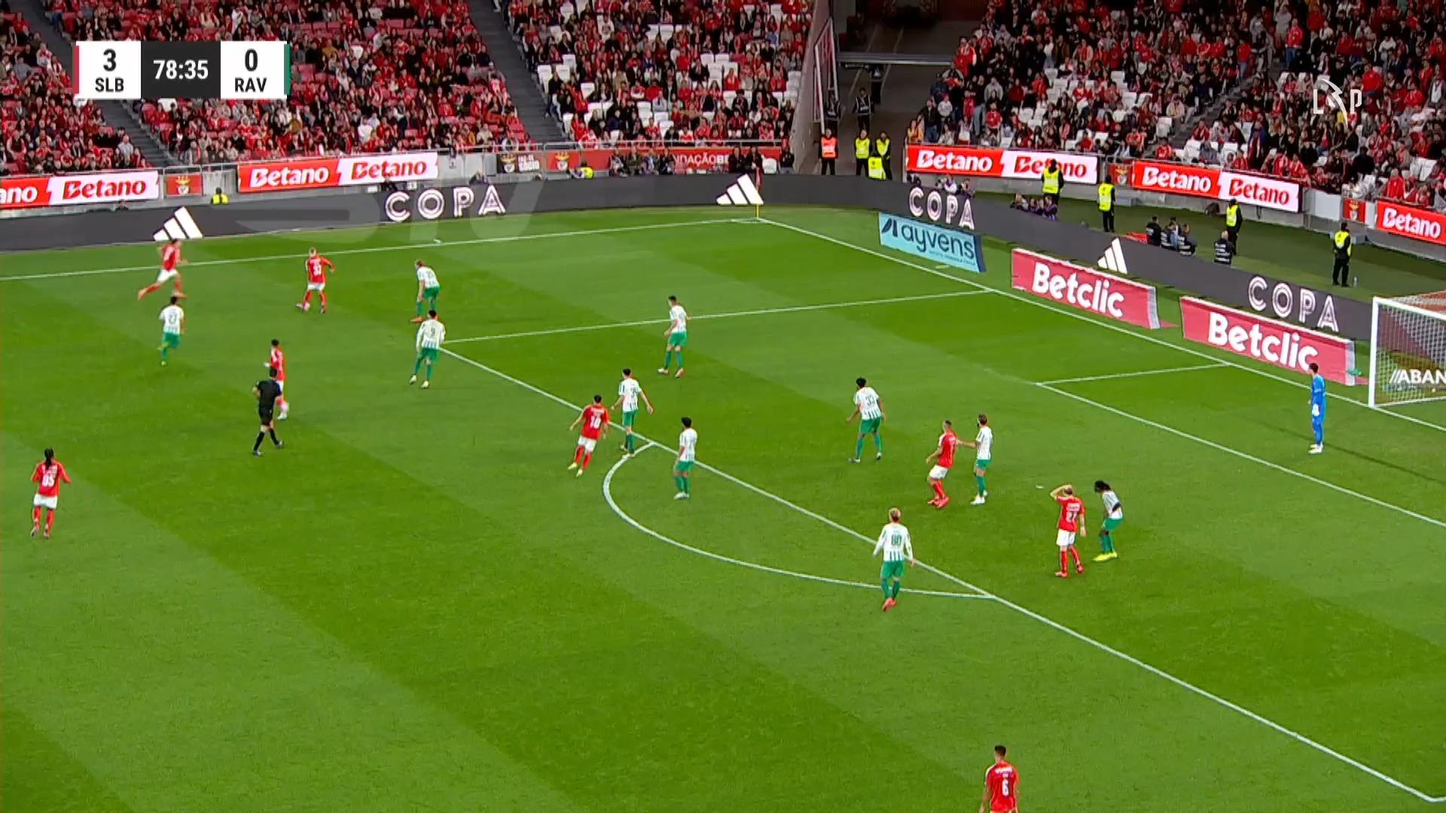ball: (302, 301, 312, 311)
goalkeeper: (1301, 360, 1330, 456)
player: (864, 506, 918, 613), (26, 448, 72, 542), (610, 368, 654, 458), (842, 375, 886, 464), (1049, 482, 1086, 580), (959, 409, 996, 506), (567, 394, 610, 477), (407, 308, 448, 390), (137, 239, 192, 300), (978, 742, 1022, 813), (924, 420, 959, 509), (657, 295, 690, 378), (1095, 478, 1126, 564), (296, 247, 335, 313), (153, 296, 186, 369), (672, 416, 699, 502), (410, 260, 443, 323)
referee: (249, 364, 285, 459)
